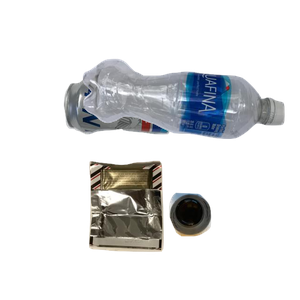glass: (166, 190, 300, 300)
metal: (61, 75, 231, 202)
plastic: (80, 56, 300, 187)
trash: (86, 158, 242, 300)
